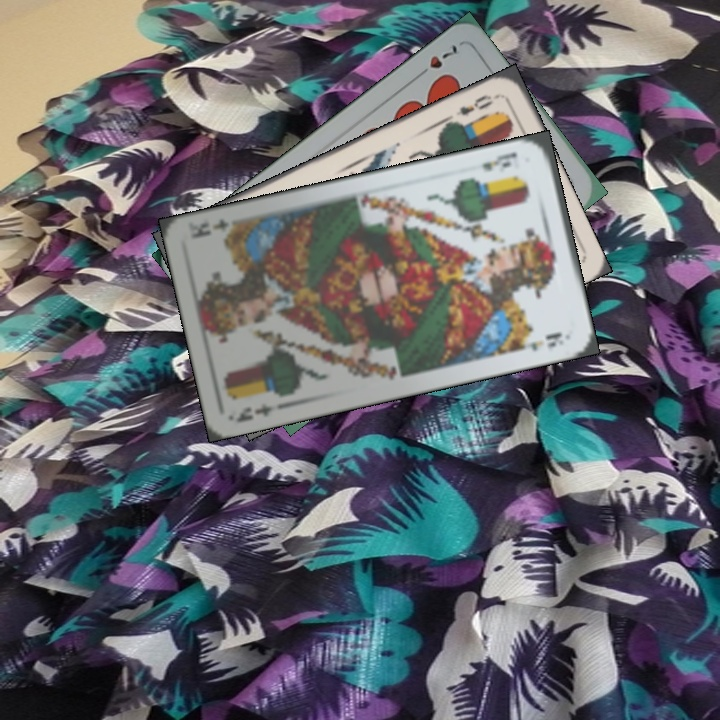EK: (232, 398, 288, 425), (478, 148, 519, 175)
EO: (452, 90, 501, 119)
H7: (412, 40, 460, 81)
